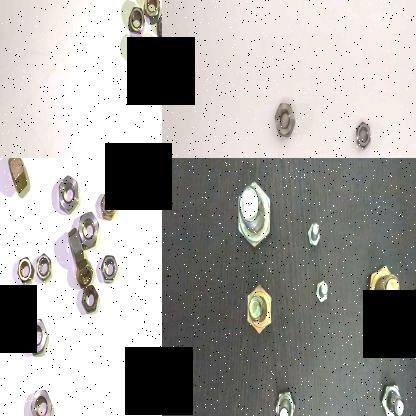Bolts: (362, 263, 404, 328), (376, 379, 406, 416), (304, 219, 324, 256), (312, 274, 330, 312)
NUTS: (77, 208, 101, 256), (5, 298, 30, 341), (273, 99, 297, 143), (26, 316, 50, 358), (58, 171, 80, 214), (98, 188, 120, 226), (78, 284, 104, 316), (29, 382, 53, 416), (72, 257, 94, 291), (99, 250, 119, 286), (126, 38, 146, 70), (145, 35, 162, 71), (35, 252, 53, 286), (16, 256, 34, 288), (128, 7, 146, 36), (354, 121, 372, 150), (66, 224, 82, 256), (143, 0, 161, 21), (155, 10, 162, 44)
